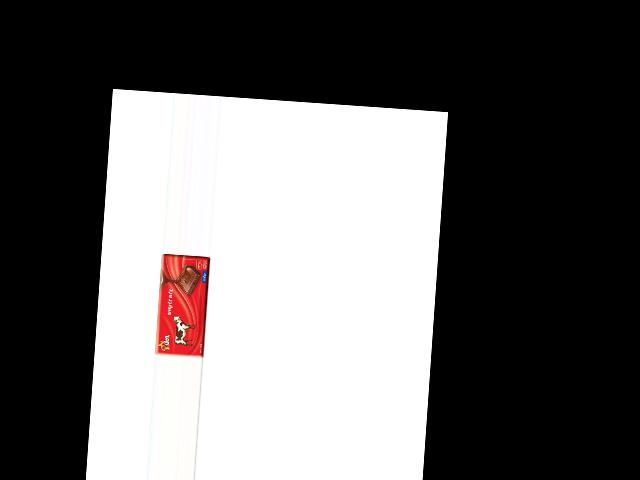chocolate: (154, 253, 210, 358)
